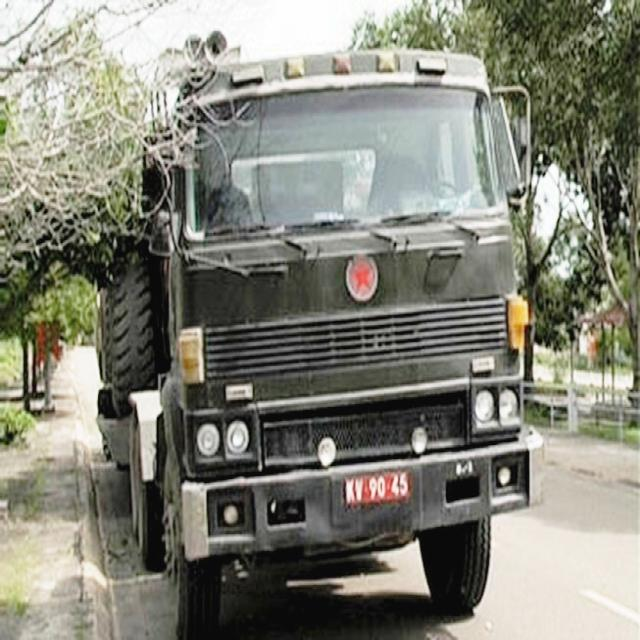license_plate: (347, 466, 413, 504)
